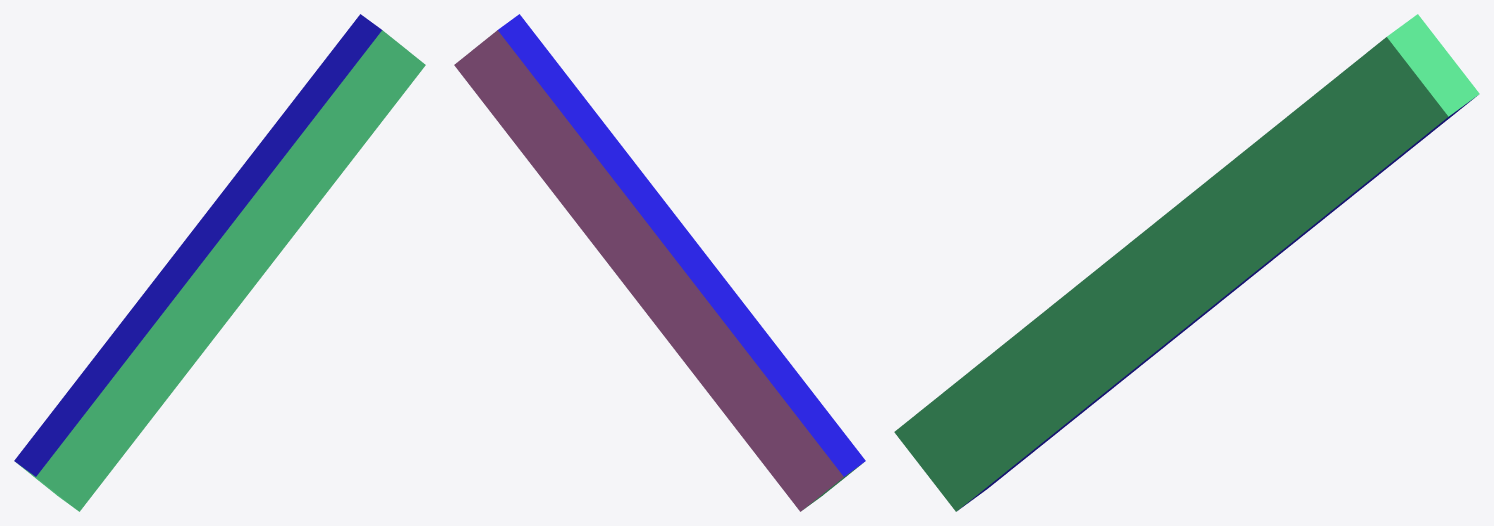
Rendered from leftLine.glb.
3 renders of one model, left to right at view 1: azimuth 30°, elevation 25°; view 2: azimuth 150°, elevation 25°; view 3: azimuth 330°, elevation 25°, orthographic. The views are drawn at different scales.
Visible parts, largest first — view 1: Cube.014; view 2: Cube.014; view 3: Cube.014.
Part boxes in pixels (left/top/right/bottom): Cube.014: left=14, top=14, right=425, bottom=511; Cube.014: left=454, top=14, right=865, bottom=511; Cube.014: left=894, top=14, right=1479, bottom=511.
Bounding box in the file's own units: 2.26 × 2.26 × 0.2201.
